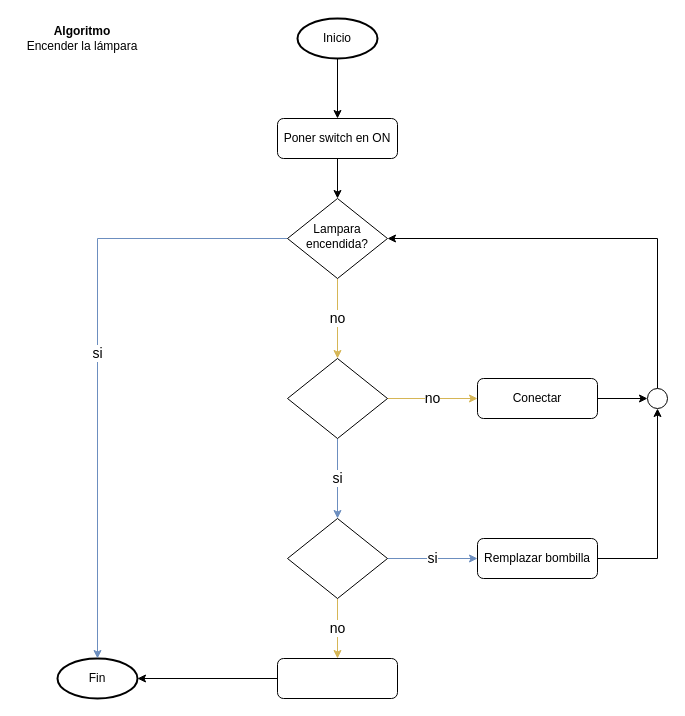
This 685x716 diagram has some shape labels left out. The centre of each missing label's shape, as x and y in pixels:
La bombilla se quemó?: pixel 337 558
Lampara conectada?: pixel 337 398
Mandar a reparar: pixel 337 678
